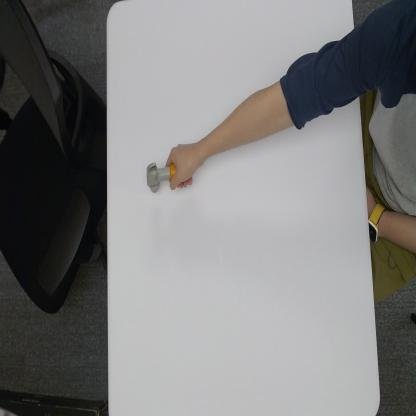Arm: (202, 50, 358, 164)
Hammer: (146, 160, 179, 193)
Hand: (166, 142, 204, 190)
